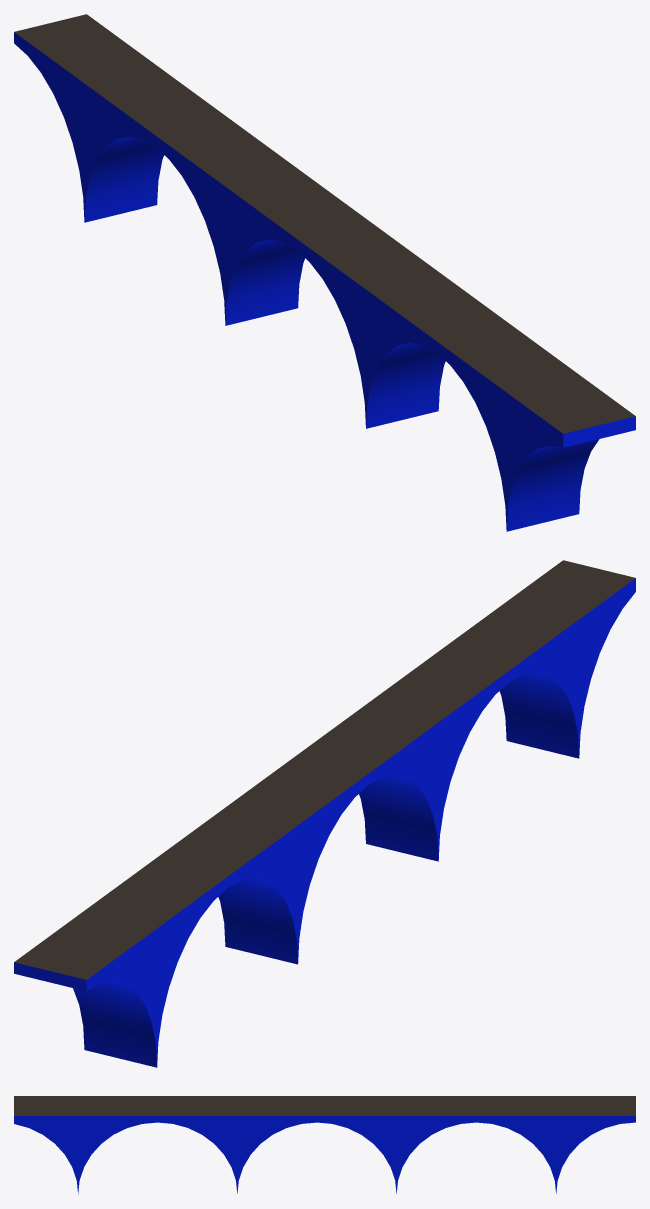
Rendered from Puente.fbx.
The picture shows the model from 3 angles, top to bottom: view 1: azimuth 30°, elevation 25°; view 2: azimuth 150°, elevation 25°; view 3: azimuth 270°, elevation 25°; orthographic projection. The views are drawn at different scales.
Visible parts, largest first — view 1: Puente; view 2: Puente; view 3: Puente.
Boxes of the visible parts, left/top/right/bottom form: Puente: left=14, top=14, right=635, bottom=531; Puente: left=14, top=560, right=635, bottom=1067; Puente: left=14, top=1096, right=635, bottom=1194.
Bounding box in the file's own units: 2497 × 4571 × 32668.
